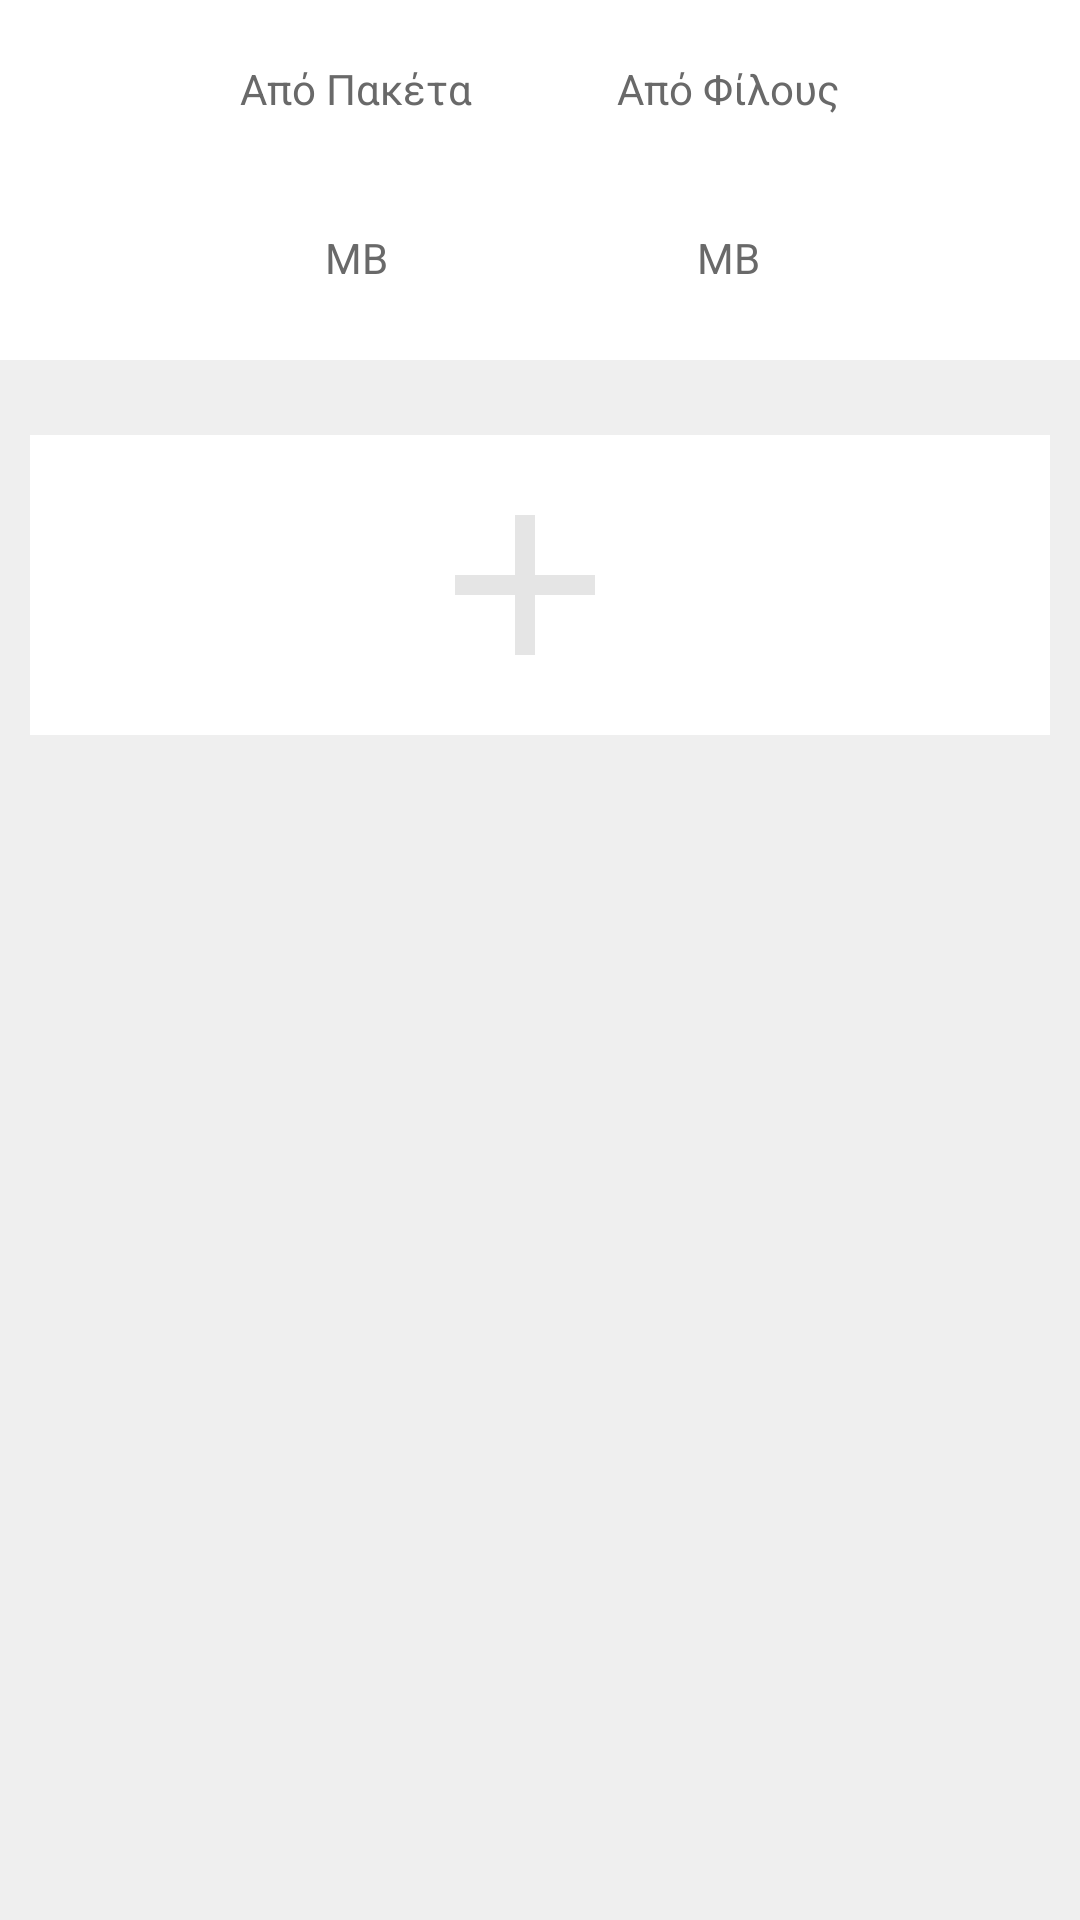

Point at icon controls on the screen. Image size 1080 x 1920, points as [x,y].
add package: [525,585]
